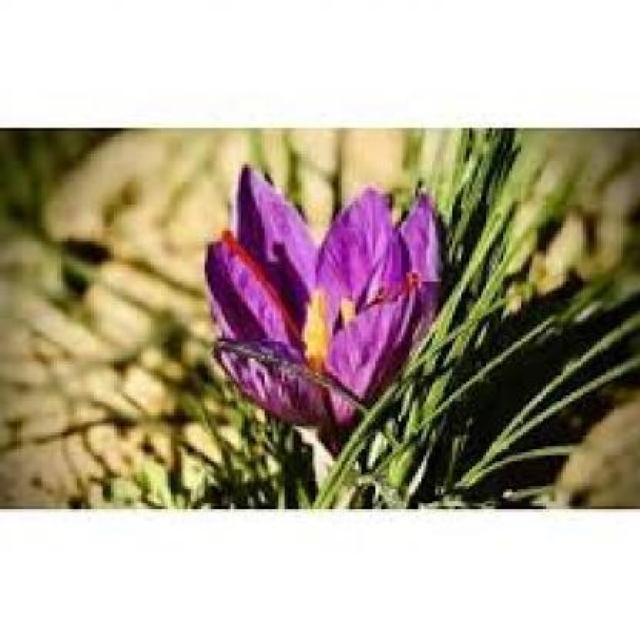Flower: (210, 157, 436, 468)
stigma: (223, 220, 305, 344)
